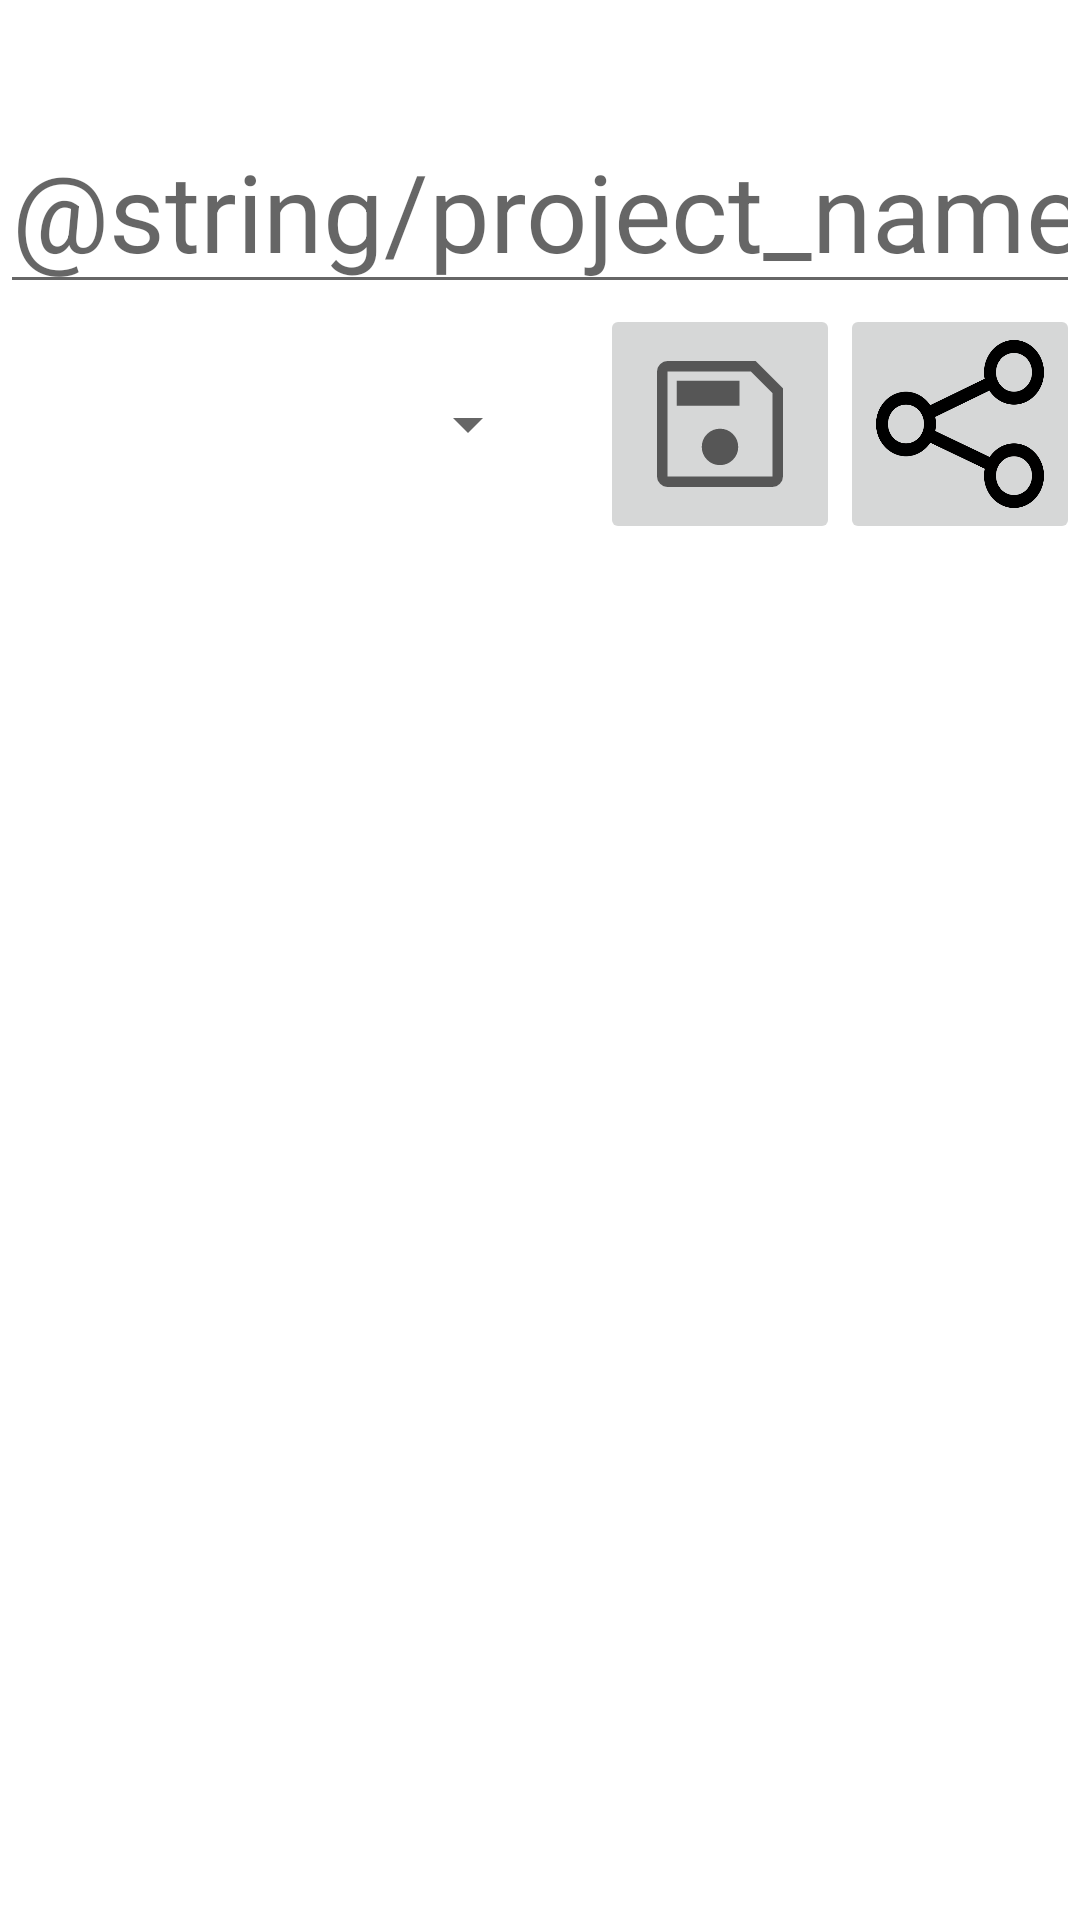

Named icons in this screenshot (1080px x 1920px) and their bounding boxes, (x1, y1, x2, y2):
save: (612, 322, 828, 526)
share: (852, 322, 1068, 526)
